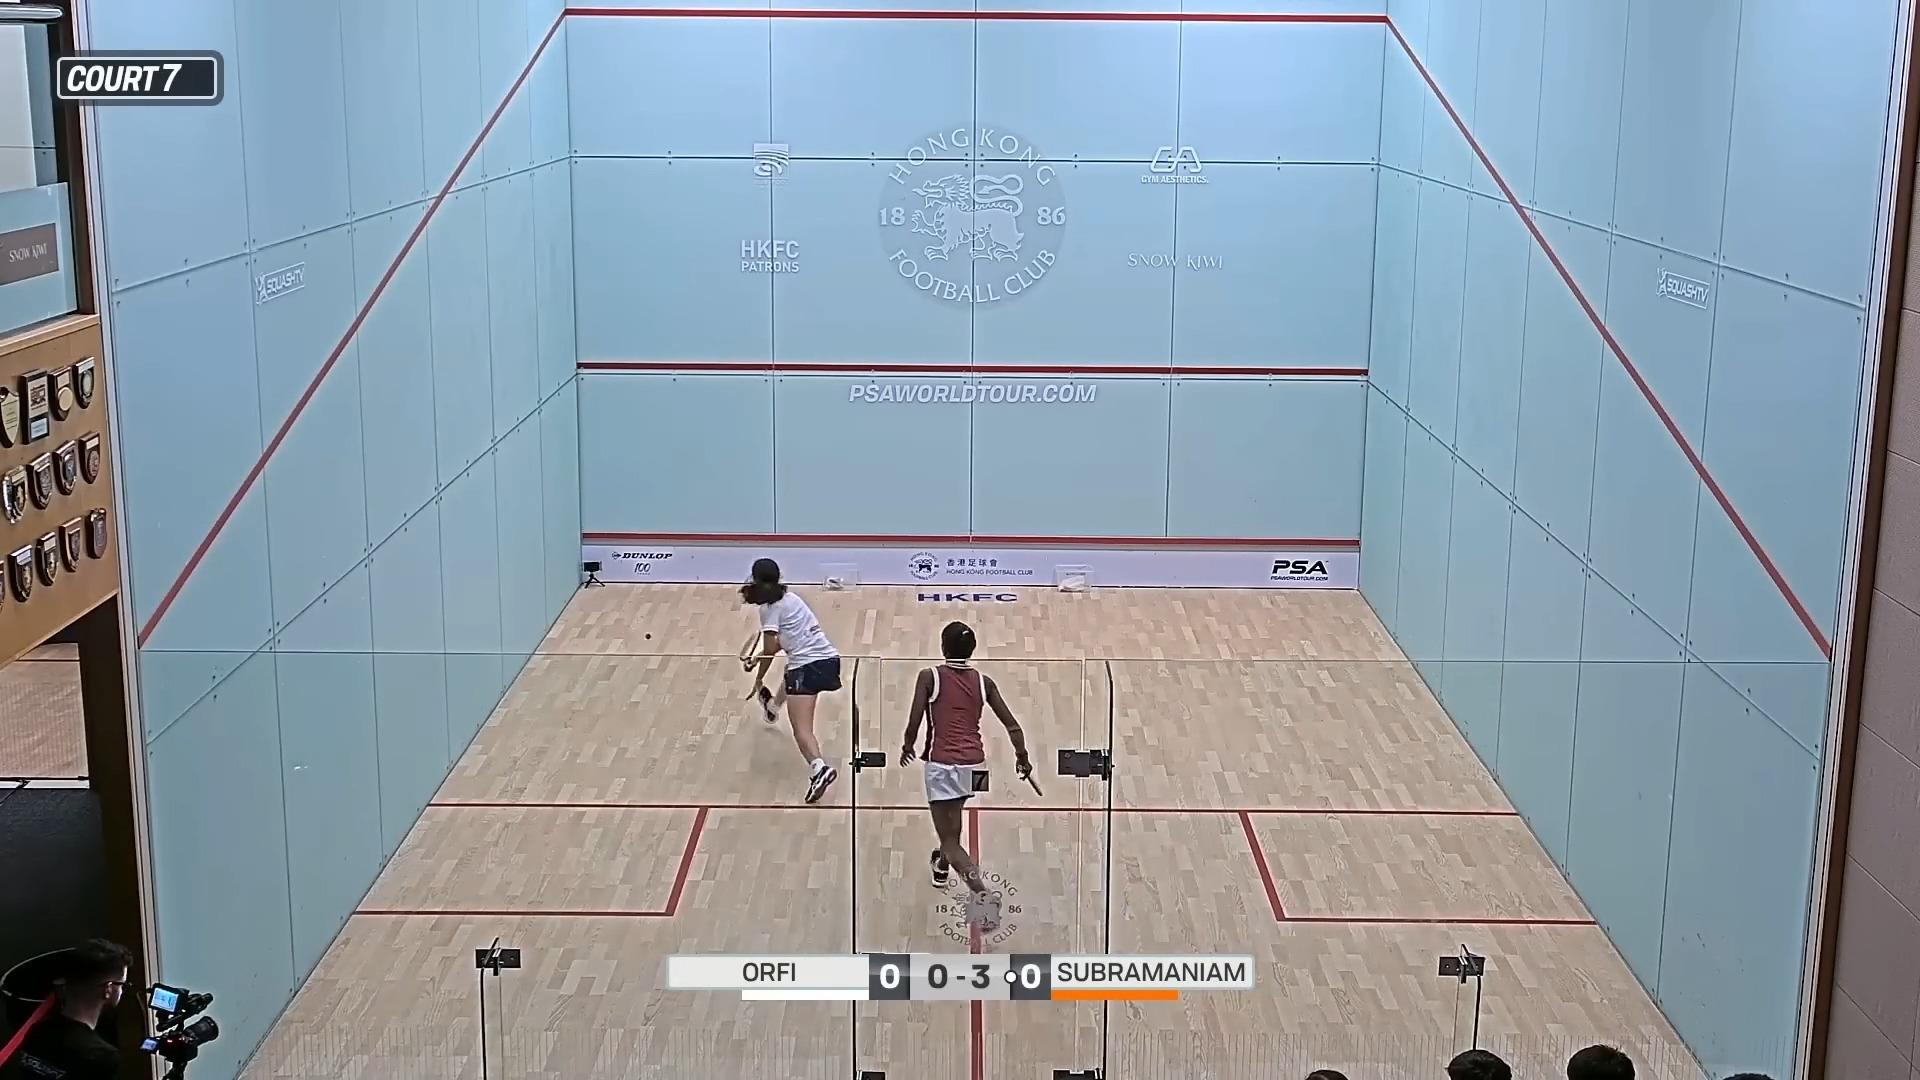Squash-Ball: (636, 622, 661, 654)
